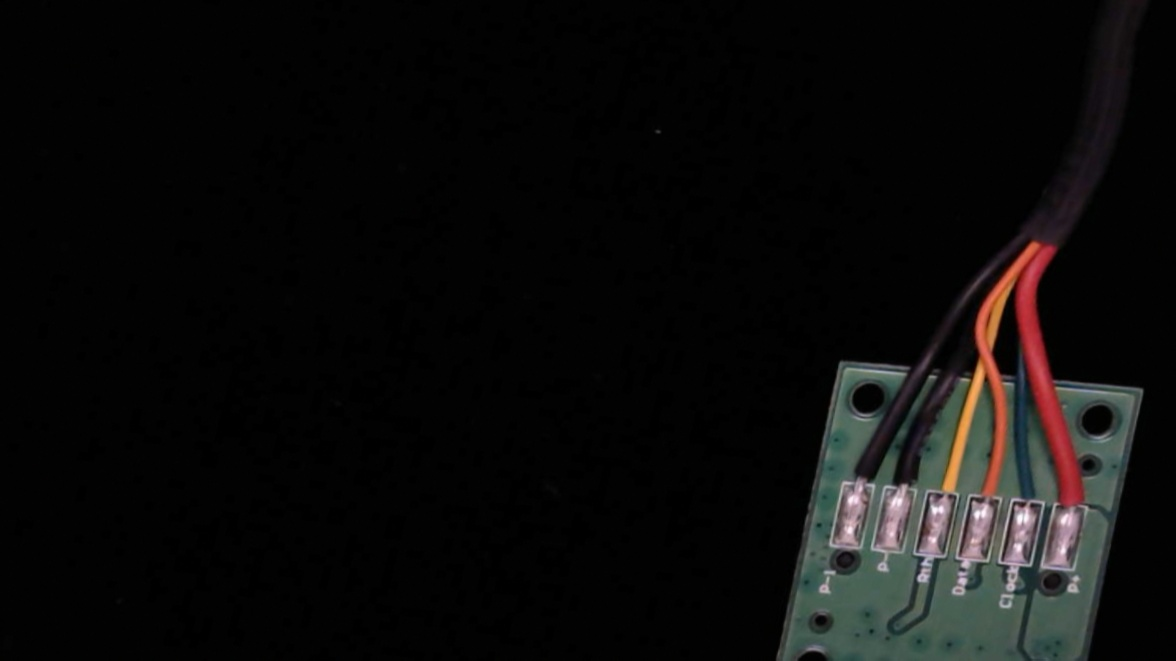Black: (878, 439, 930, 507)
Black1: (836, 431, 889, 503)
Green: (1005, 458, 1056, 521)
Orange: (963, 447, 1015, 514)
Red: (1047, 448, 1103, 523)
Yellow: (924, 443, 974, 512)
